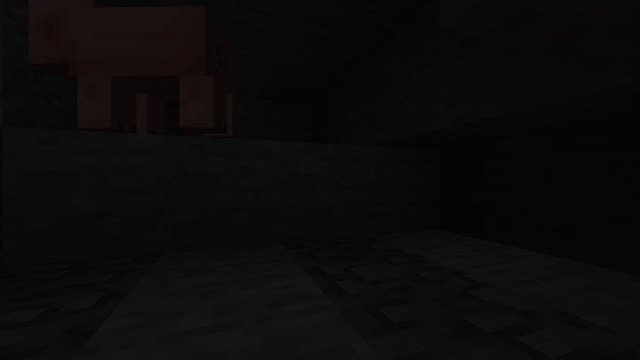cochons: (64, 0, 221, 141)
